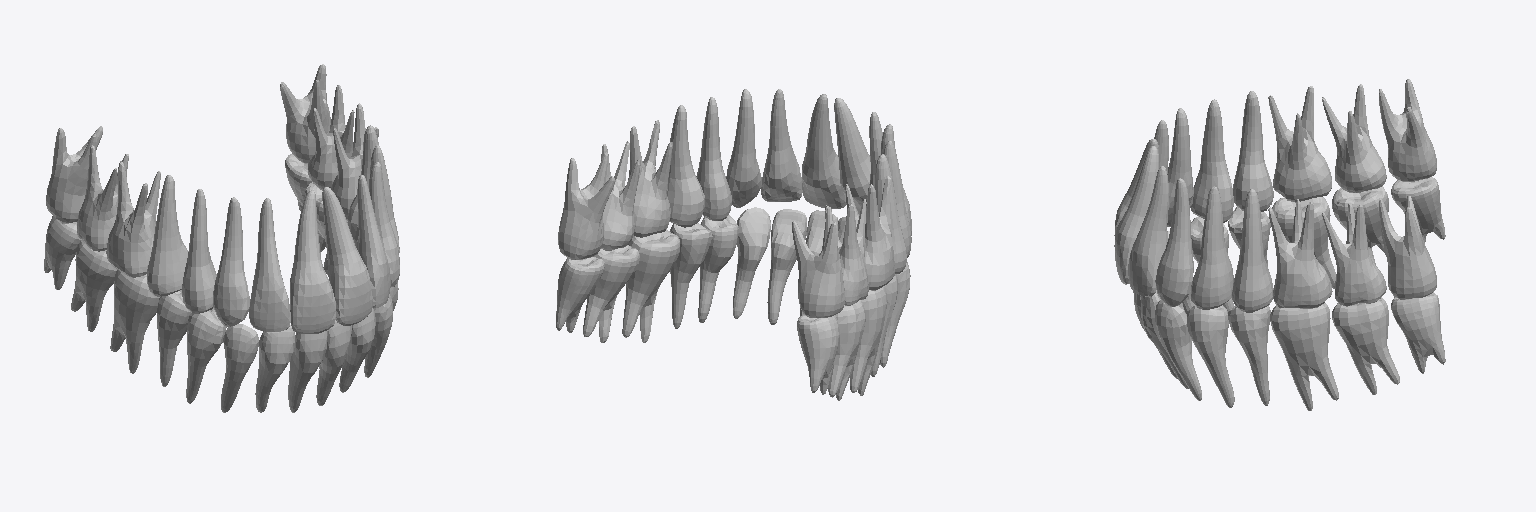
The model's file is tooth.obj.
The picture shows the model from 3 angles: view 1: azimuth 30°, elevation 25°; view 2: azimuth 150°, elevation 25°; view 3: azimuth 270°, elevation 25°; orthographic projection.
Parts seen in each view (by area): view 1: mmGroup0; view 2: mmGroup0; view 3: mmGroup0.
Boxes of the visible parts, box(x1,y1,x2,y2) form: mmGroup0: box(44, 64, 399, 412); mmGroup0: box(556, 89, 911, 400); mmGroup0: box(1114, 79, 1445, 410).
Bounding box in the file's own units: 17.38 × 13.81 × 17.85.